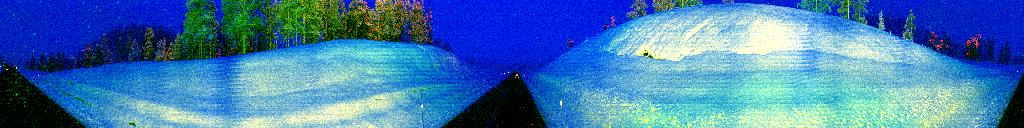pole: (418, 87, 425, 128), (558, 85, 564, 128)
